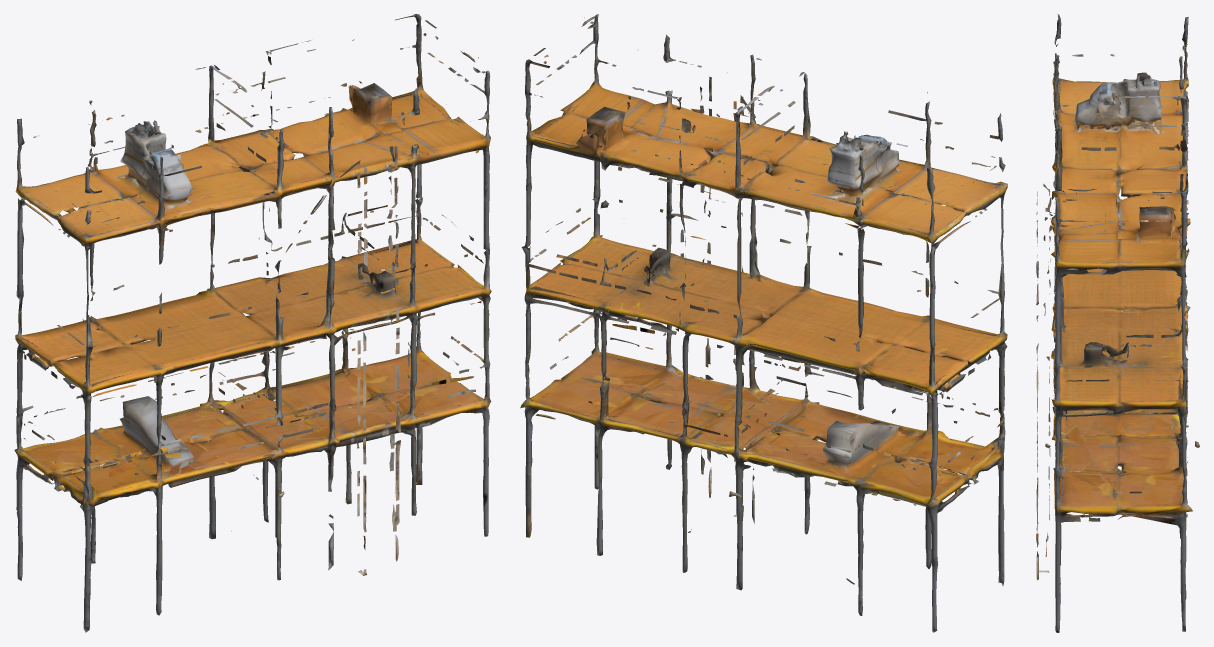
The model's file is scof1.glb.
The picture shows the model from 3 angles, left to right: view 1: azimuth 30°, elevation 25°; view 2: azimuth 150°, elevation 25°; view 3: azimuth 270°, elevation 25°; orthographic projection. The views are drawn at different scales.
Visible parts, largest first — view 1: Mesh0; view 2: Mesh0; view 3: Mesh0.
Boxes of the visible parts, x1,y1,x2,y2 form: Mesh0: (14, 14, 491, 632); Mesh0: (520, 14, 1007, 632); Mesh0: (1036, 14, 1199, 632).
Size of the model in its own units: 1.8 by 1.99 by 0.6683.
Materials: 1 (1 with a texture image).
